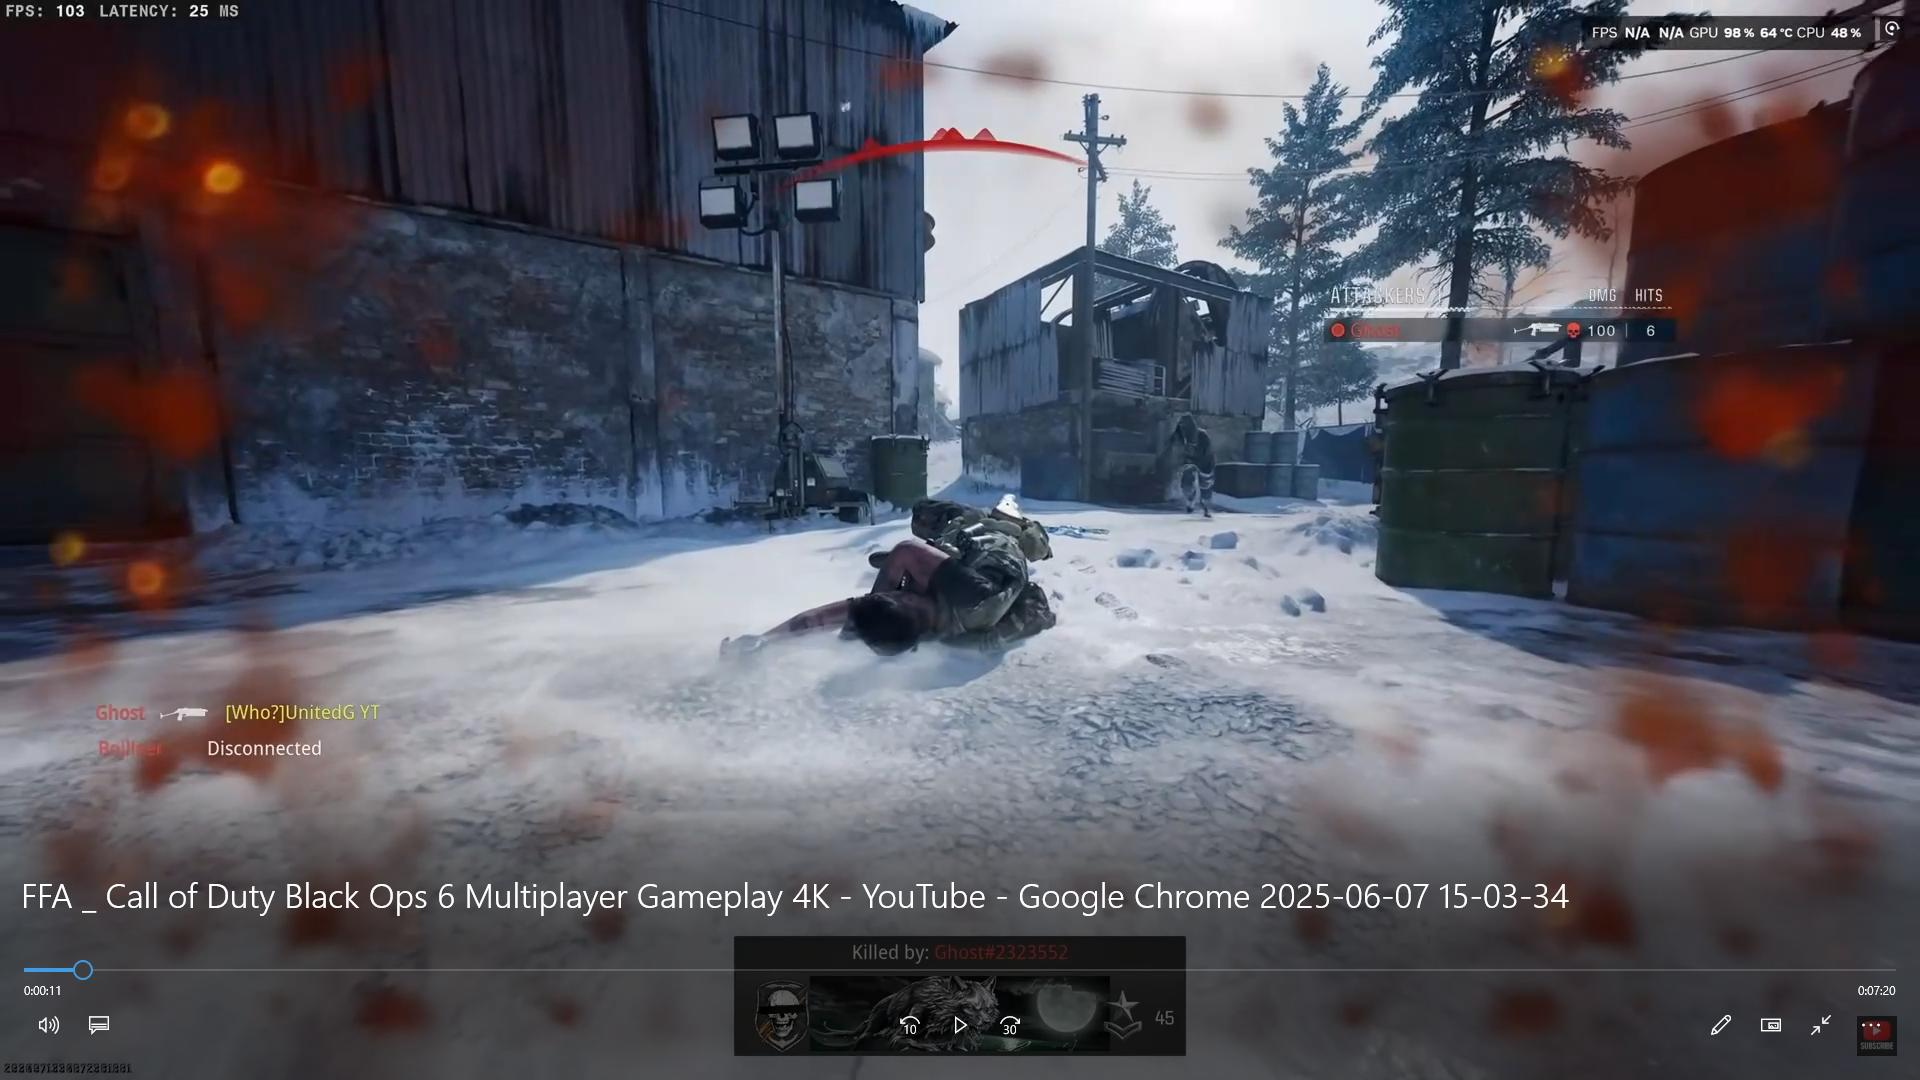Enemy: (1162, 407, 1221, 517)
